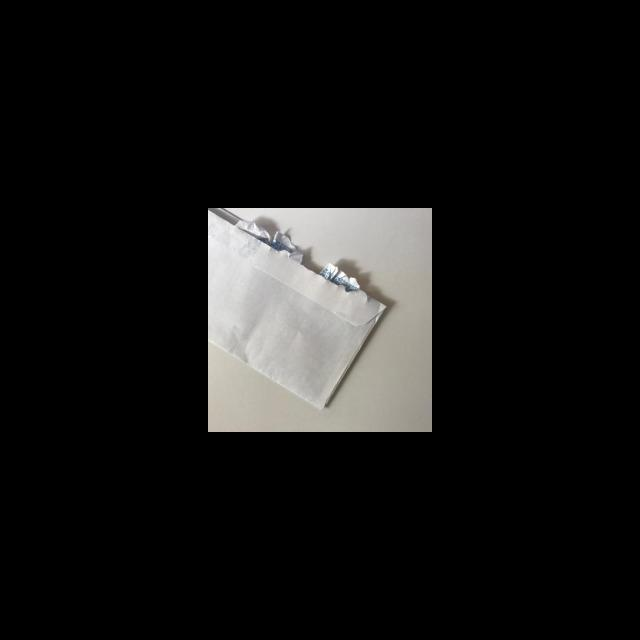paper: (208, 208, 392, 409)
